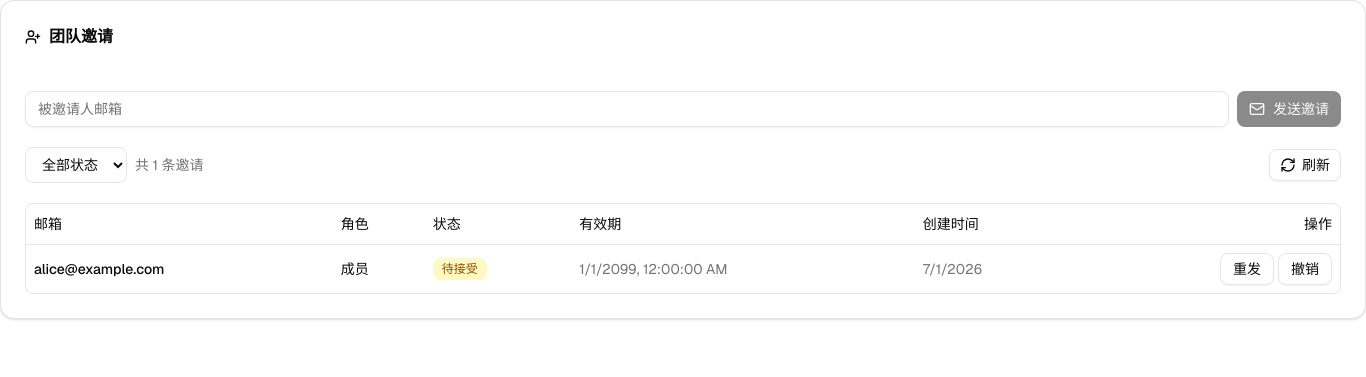
InvitationsManager - 撤销与重发 › 撤销：confirm 确认 → DELETE /api/invitations/:id，成功后刷新列表
expect the text "alice@example.com" is shown: met, box [26,244,333,292]
Step 1. Click the button "撤销" → [1305, 268], box [1278,252,1332,284]
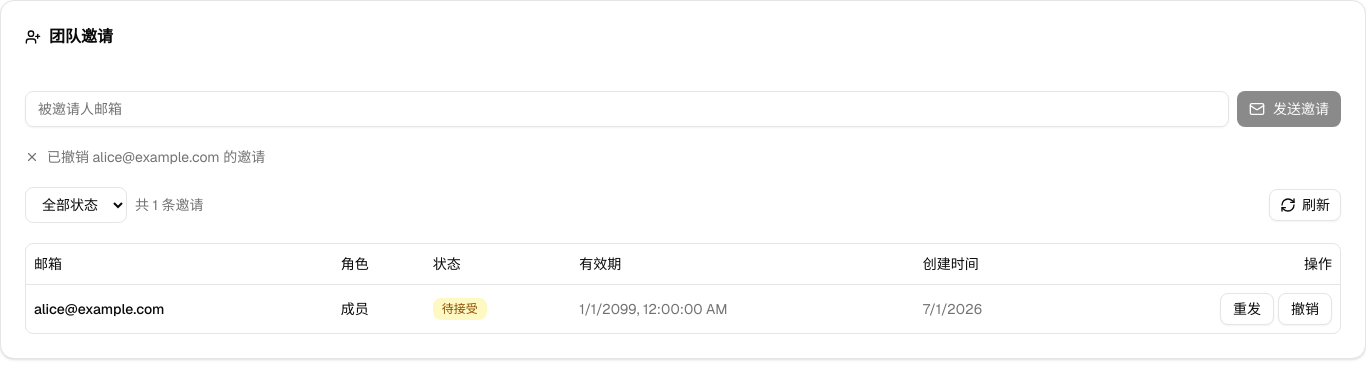
expect the text "已撤销 alice@example.com 的邀请" is shown: met, box [25,148,265,166]
